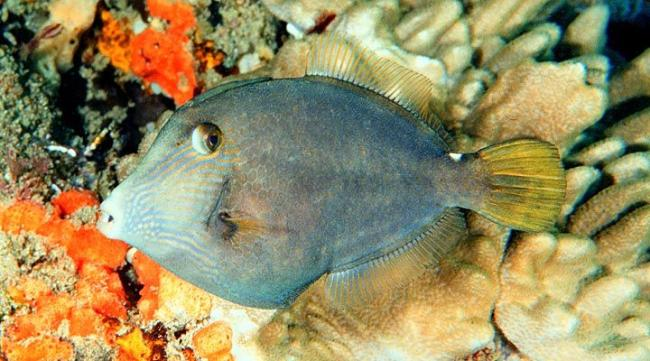fish: (94, 34, 569, 311)
